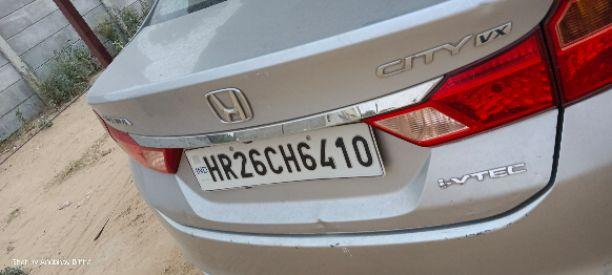license_plate: (183, 120, 385, 191)
